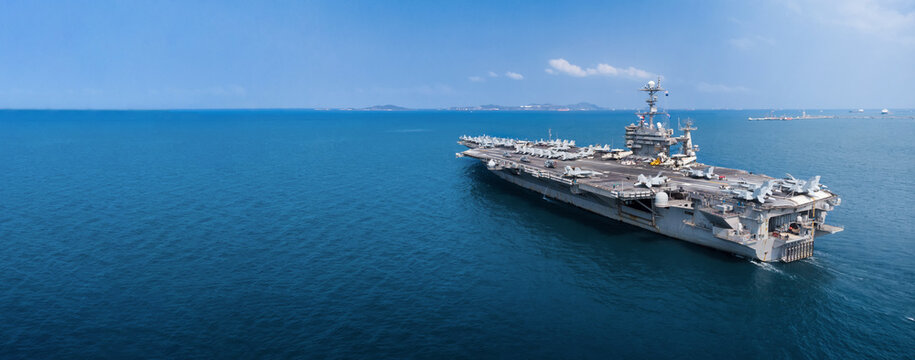Ship: (458, 119, 831, 260)
